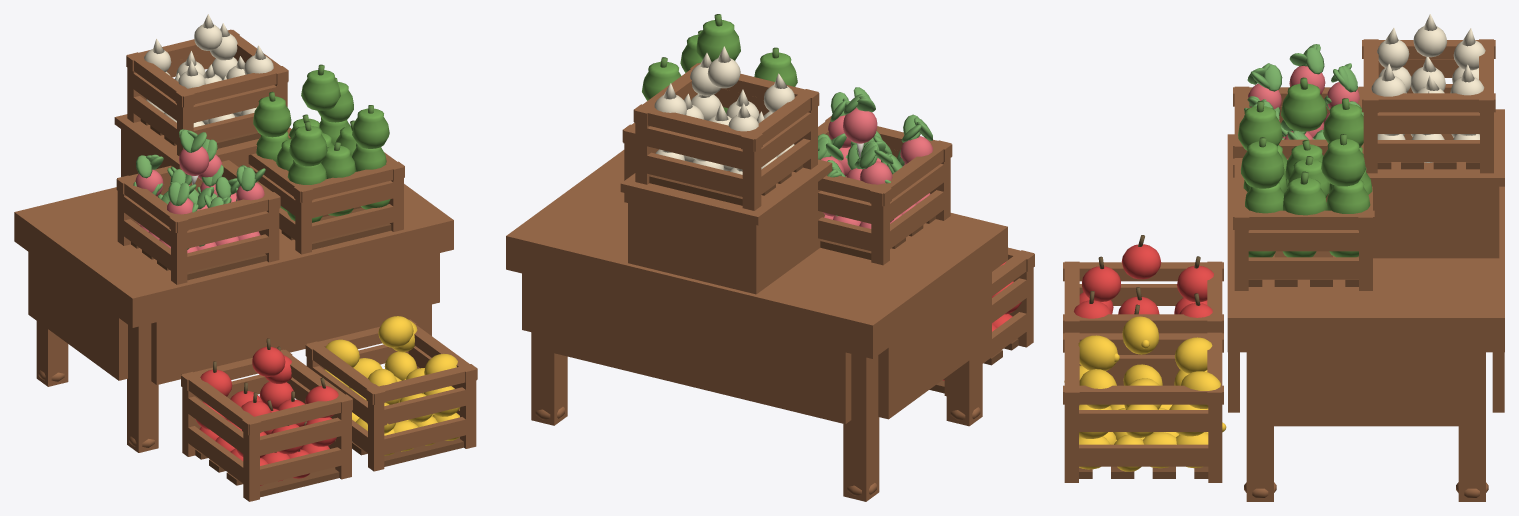
Rendered from 18-produce-crates.glb.
3 views of the same model, side by side, from view 1: azimuth 30°, elevation 25°; view 2: azimuth 150°, elevation 25°; view 3: azimuth 270°, elevation 25° (orthographic). The views are drawn at different scales.
Parts seen in each view (by area): view 1: counter_slab, skirt_front, skirt_left, leg, riser_cap, pepper_slat_365, lemon_slat_89, pepper_slat_369, lemon_slat_85, apple_slat_5, apple_slat_9, radish_slat_165 (+60 smaller); view 2: counter_slab, skirt_back, riser, skirt_left, leg.001, riser_cap, leg.003, garlic_slat_432, garlic_slat_436, garlic_rim_444, leg, garlic_rim_445 (+29 smaller); view 3: counter_slab, skirt_right, riser, riser_cap, leg.002, lemon_slat_92, leg.003, lemon_slat_88, pepper_slat_368, pepper_slat_372, lemon_rim_100, garlic_slat_434 (+55 smaller).
Part boxes in pixels (x1,y1,x2,y2): counter_slab: (14,184,453,327); skirt_front: (151,255,429,384); skirt_left: (28,252,127,380); leg: (127,323,158,452); riser_cap: (114,114,291,169); pepper_slat_365: (307,204,398,243); lemon_slat_89: (384,387,470,425); pepper_slat_369: (307,180,398,219); lemon_slat_85: (380,417,470,454); apple_slat_5: (255,447,345,486); apple_slat_9: (259,417,346,455); radish_slat_165: (186,234,268,272); counter_slab: (506,150,1007,358); skirt_back: (533,276,851,424); riser: (628,182,824,294); skirt_left: (878,272,991,419); leg.001: (843,354,879,501); riser_cap: (620,159,832,225); leg.003: (531,276,567,425); garlic_slat_432: (645,152,747,196); garlic_slat_436: (641,126,747,170); garlic_rim_444: (633,104,762,151); leg: (946,351,982,426); garlic_rim_445: (741,89,818,151); counter_slab: (1227,134,1504,352); skirt_right: (1260,352,1472,426); riser: (1373,186,1499,258); riser_cap: (1361,109,1504,186); leg.002: (1246,352,1273,501); lemon_slat_92: (1072,410,1214,431); leg.003: (1458,352,1485,501); lemon_slat_88: (1074,444,1212,466); pepper_slat_368: (1242,257,1365,279); pepper_slat_372: (1242,230,1365,251); lemon_rim_100: (1063,385,1223,404); garlic_slat_434: (1371,140,1486,161).
Size of the model in its own units: 1.6 by 1.65 by 1.63.
